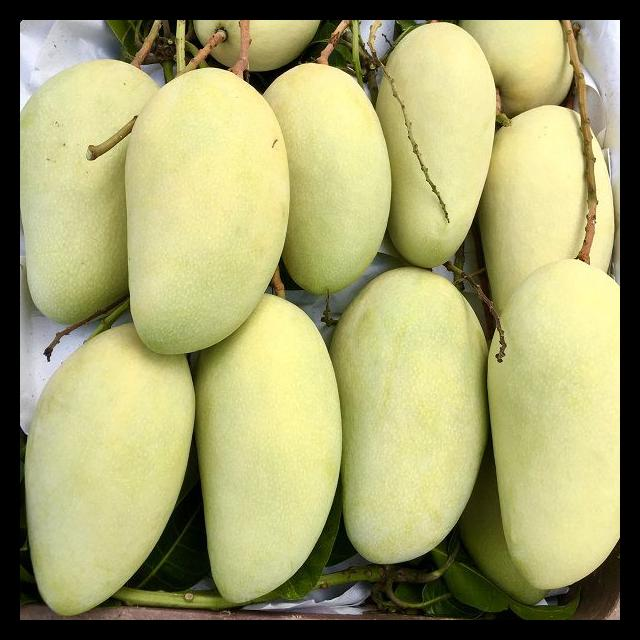xoai: (23, 326, 194, 614), (123, 67, 291, 356), (331, 267, 489, 563), (197, 293, 343, 606), (486, 261, 620, 590), (16, 58, 142, 325), (258, 62, 391, 291), (378, 22, 493, 269), (484, 104, 614, 279)
